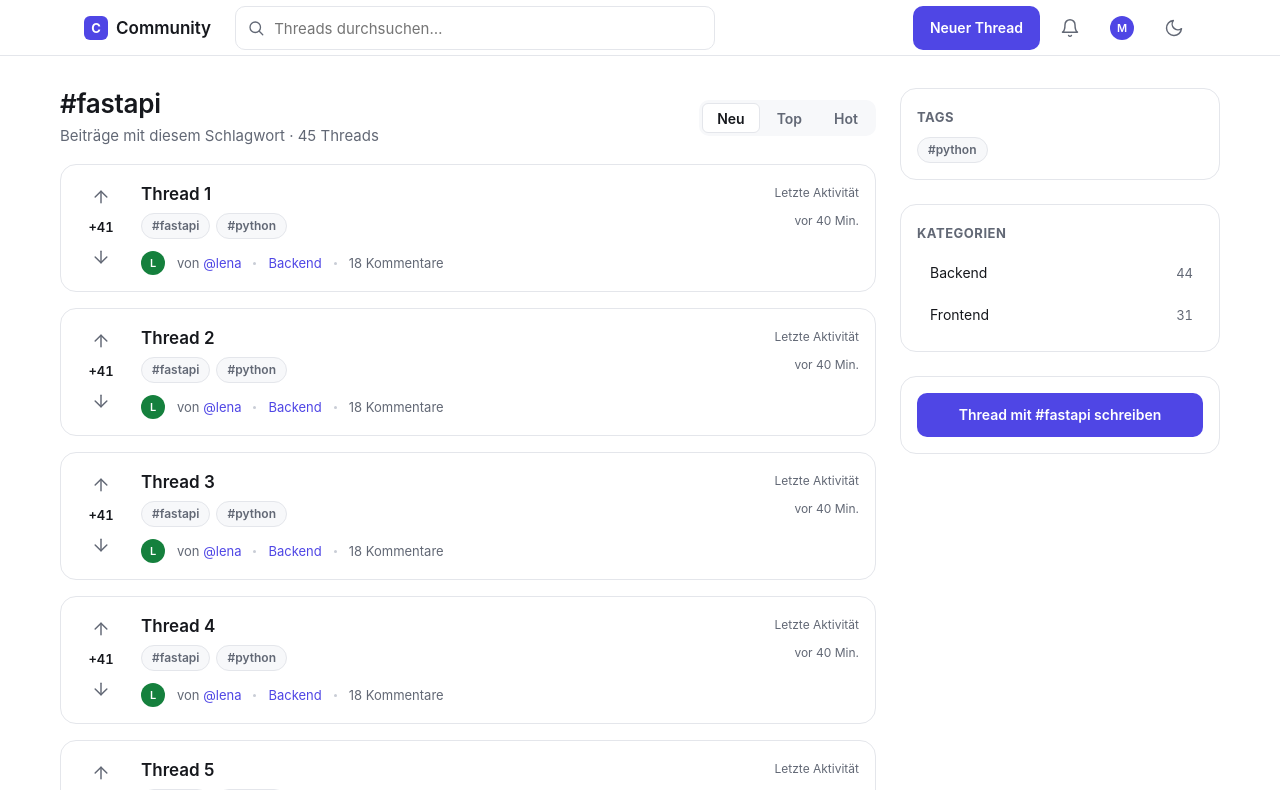
Test: forum tag page › sends an upvote for a signed-in visitor and shows the new score
expect the 1st text "+41" is shown: met, box [88,215,114,239]
Click the 1st button named "Thread upvoten".
click(101, 197)  # box [85,181,117,213]
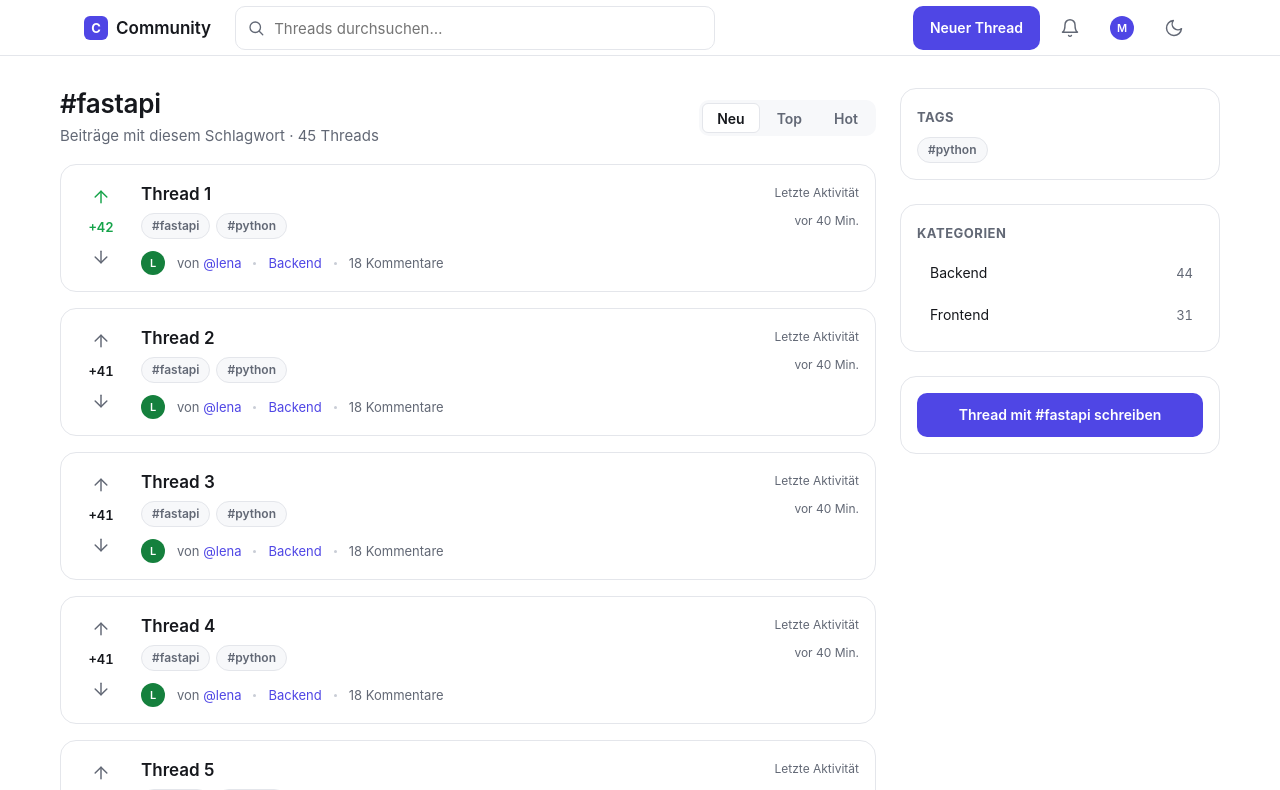
expect the text "+42" is shown: met, box [88,215,114,239]
